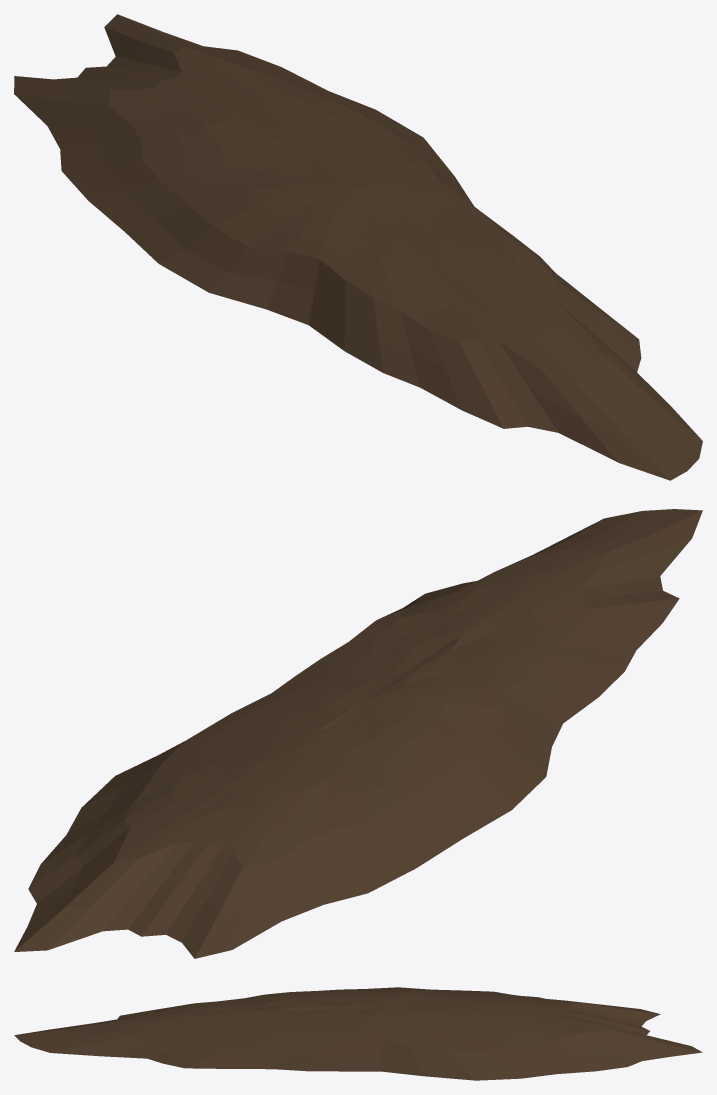
Rendered from track_leaf_drift.glb.
3 views of the same model, one above another, from view 1: azimuth 30°, elevation 25°; view 2: azimuth 150°, elevation 25°; view 3: azimuth 270°, elevation 25° (orthographic). The views are drawn at different scales.
Visible parts, largest first — view 1: track_leaf_drift_LOD0; view 2: track_leaf_drift_LOD0; view 3: track_leaf_drift_LOD0.
Boxes of the visible parts, x1=… form: track_leaf_drift_LOD0: x1=14, y1=14, x2=702, y2=480; track_leaf_drift_LOD0: x1=14, y1=509, x2=702, y2=958; track_leaf_drift_LOD0: x1=14, y1=987, x2=702, y2=1080.
Size of what is drawn, in the model's own units: 1 by 0.1523 by 3.27.
